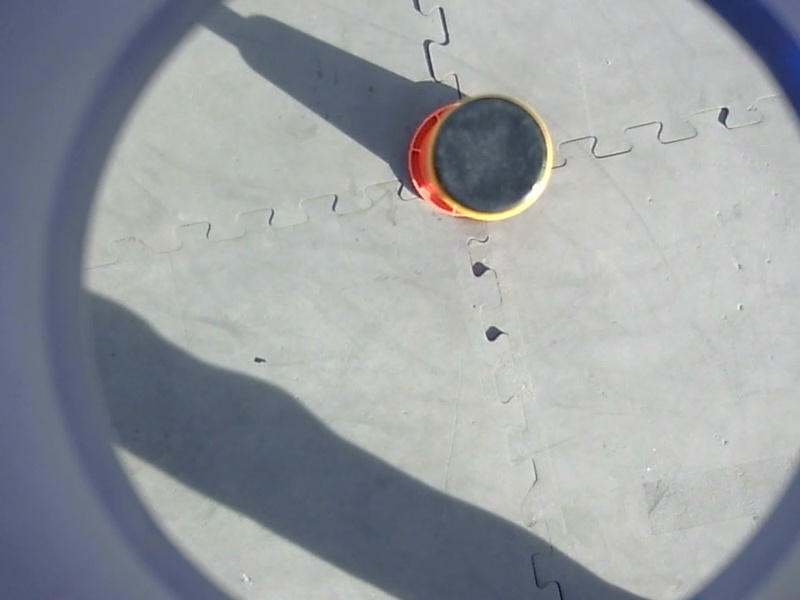tip: (420, 88, 561, 227)
